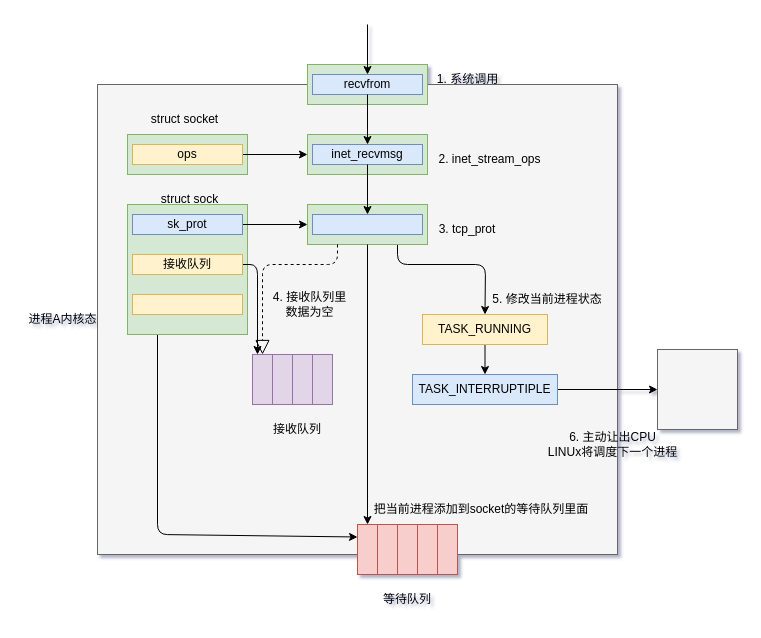
Some shapes in this 761 by 638 pixel diagram are drawn without their labels. The shapes that lost their labels are listed below. From the top down, each one's box as (x1, y1, x2, y2) in pixels, then its label:
(312, 214, 422, 234): tcp_recvmsg
(132, 294, 242, 314): sk_wq
(656, 348, 738, 430): 进程B
